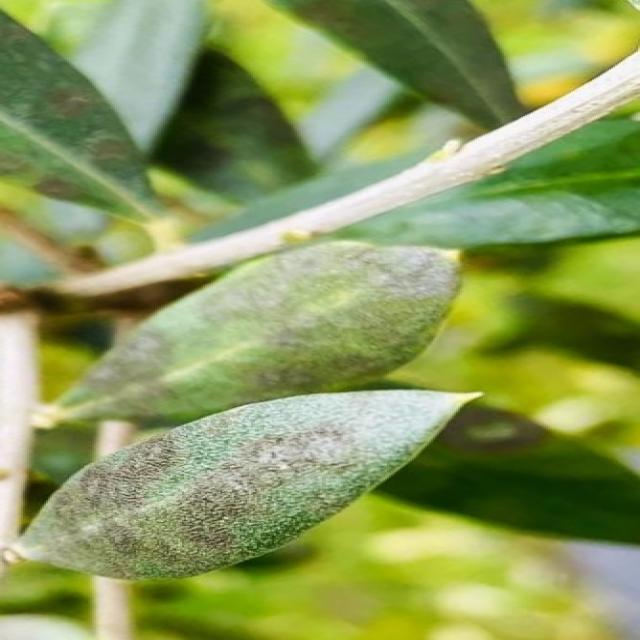OlivePeacockSpot: (10, 392, 479, 580), (40, 240, 460, 427)
